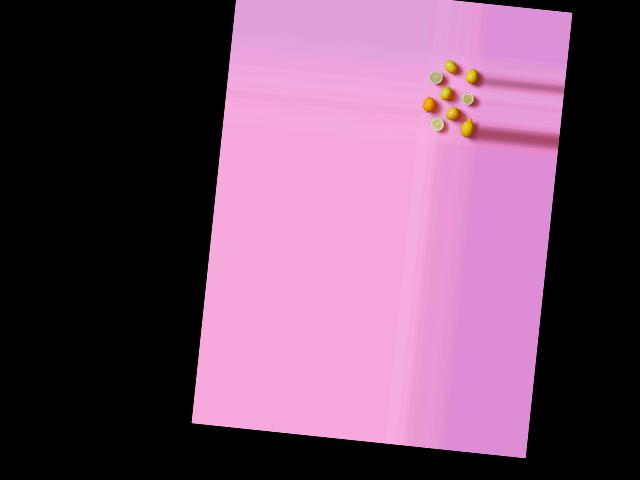lemon: (466, 67, 481, 88)
